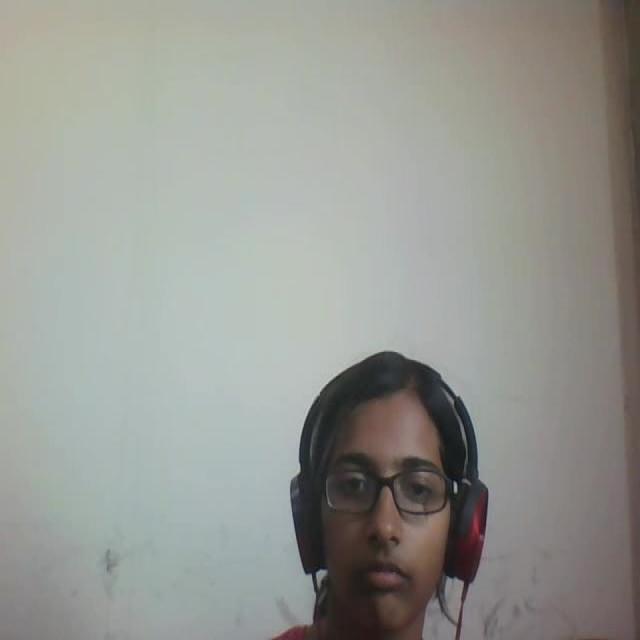Engaged: (260, 344, 515, 640)
